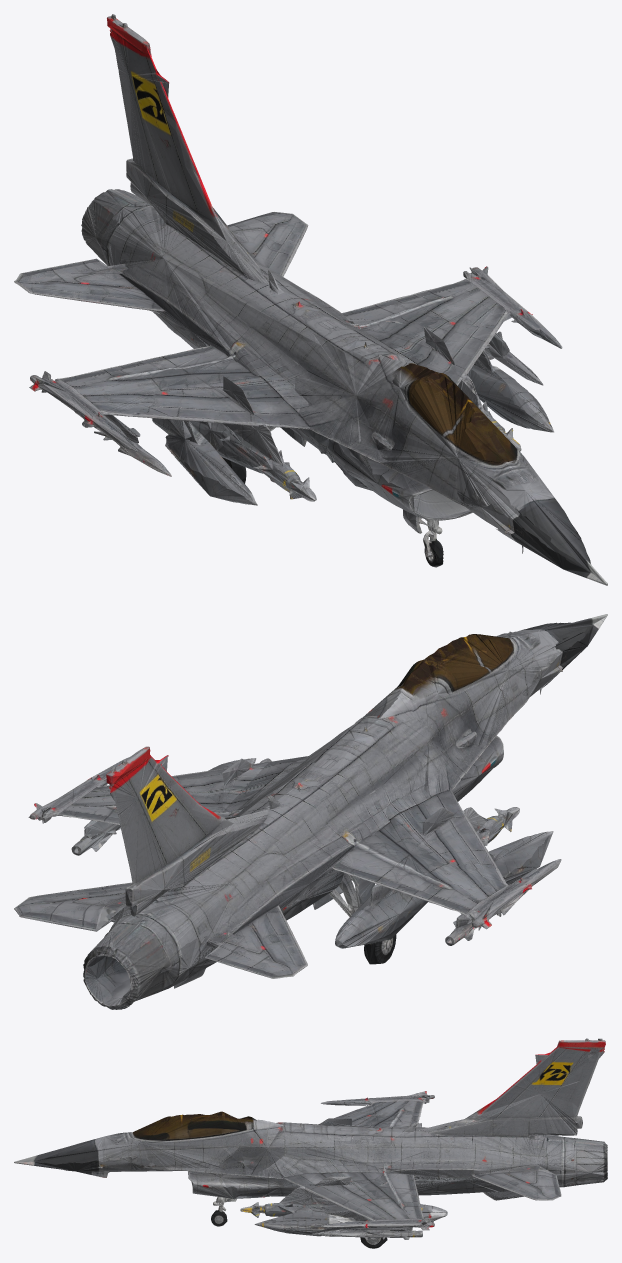
The picture shows the model from 3 angles, top to bottom: view 1: azimuth 30°, elevation 25°; view 2: azimuth 150°, elevation 25°; view 3: azimuth 270°, elevation 25°; orthographic projection. The views are drawn at different scales.
Bounding box in the file's own units: 1 × 0.6629 × 1.9.
Materials: 1 (1 with a texture image).
